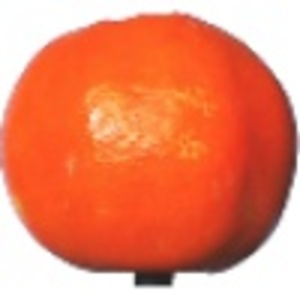tangerina: (1, 9, 300, 287)
